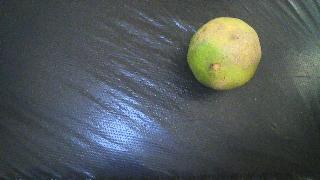DESECHO: (187, 17, 262, 90)
